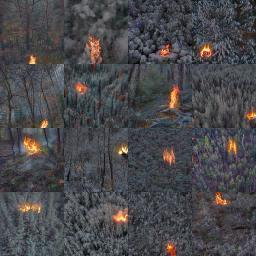Small fire: (11, 187, 55, 230), (83, 23, 111, 76), (189, 37, 226, 70), (157, 80, 189, 117), (19, 124, 47, 166), (65, 73, 100, 103), (103, 200, 136, 231), (111, 132, 135, 168), (156, 144, 183, 173), (22, 43, 46, 74), (150, 40, 180, 60), (37, 109, 56, 136), (154, 240, 183, 255)
